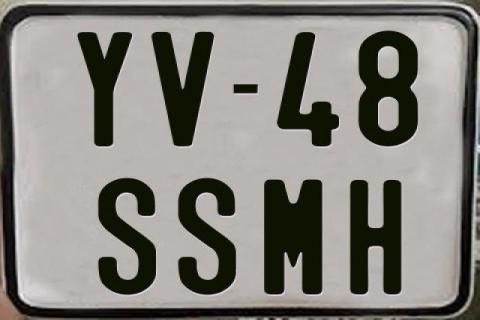0: (274, 30, 338, 146), (356, 29, 418, 145)
H: (347, 180, 400, 294)
M: (261, 177, 324, 295)
S: (175, 178, 239, 298), (96, 176, 155, 296)
V: (151, 32, 218, 146)
Y: (76, 32, 134, 148)
